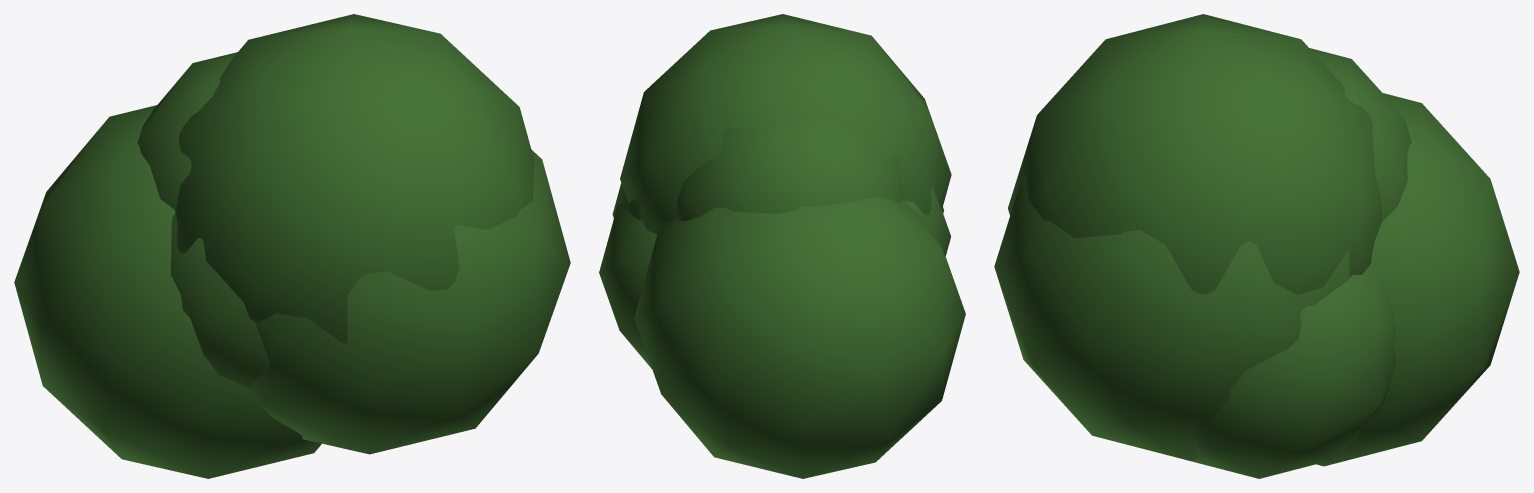
File: shrub.glb
3 renders of one model, left to right at view 1: azimuth 30°, elevation 25°; view 2: azimuth 150°, elevation 25°; view 3: azimuth 270°, elevation 25°, orthographic. The views are drawn at different scales.
Visible parts, largest first — view 1: shrub; view 2: shrub; view 3: shrub.
Part boxes in pixels (x1,y1,x2,y2): shrub: (14, 14, 570, 478); shrub: (599, 14, 965, 478); shrub: (994, 14, 1519, 478).
Size of the model in its own units: 1.07 by 1.08 by 1.13.
